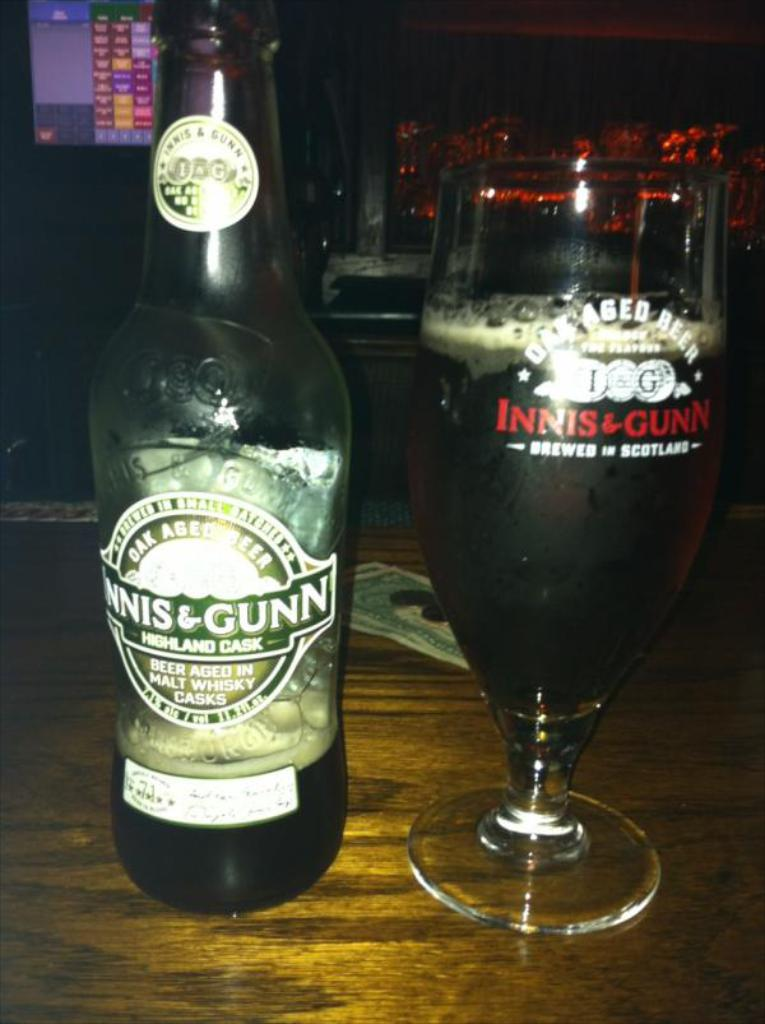can: (89, 0, 351, 915)
